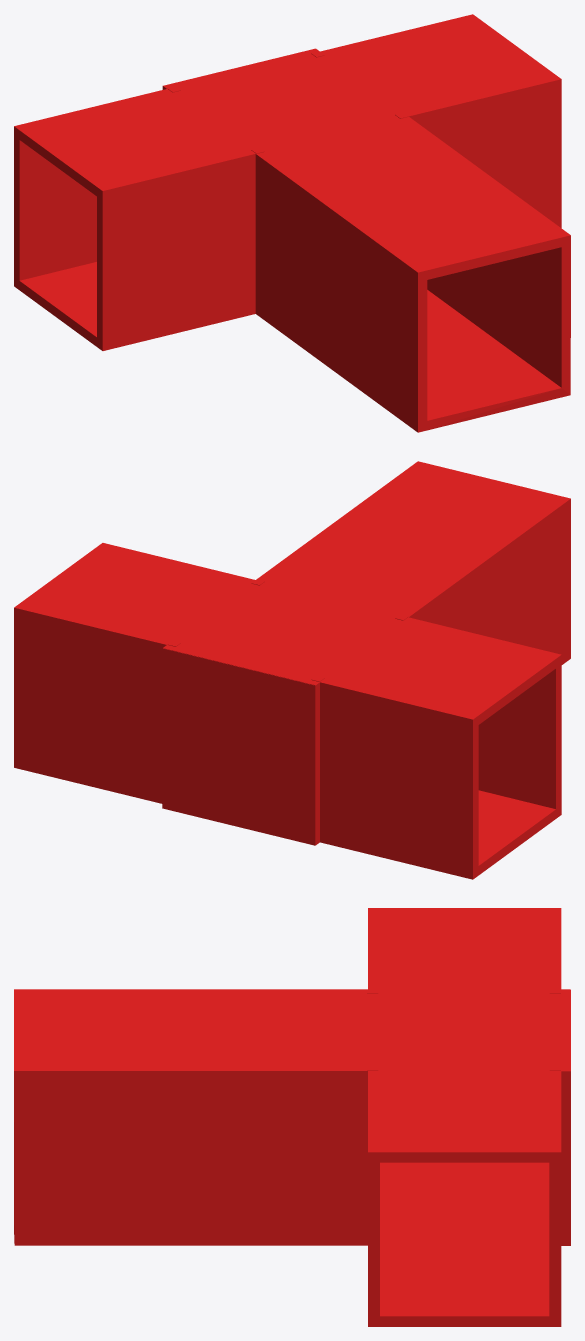
Rendered from T-Junction.fbx.
3 renders of one model, top to bottom at view 1: azimuth 30°, elevation 25°; view 2: azimuth 150°, elevation 25°; view 3: azimuth 270°, elevation 25°, orthographic. The views are drawn at different scales.
Parts seen in each view (by area): view 1: T-Junction; view 2: T-Junction; view 3: T-Junction.
Boxes of the visible parts, x1,y1,x2,y2 form: T-Junction: [14, 14, 570, 432]; T-Junction: [14, 461, 570, 879]; T-Junction: [14, 908, 570, 1326].
Size of the model in its own units: 300 by 100 by 289.
